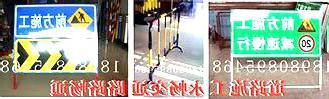sign: (14, 5, 99, 75), (231, 9, 320, 57)
